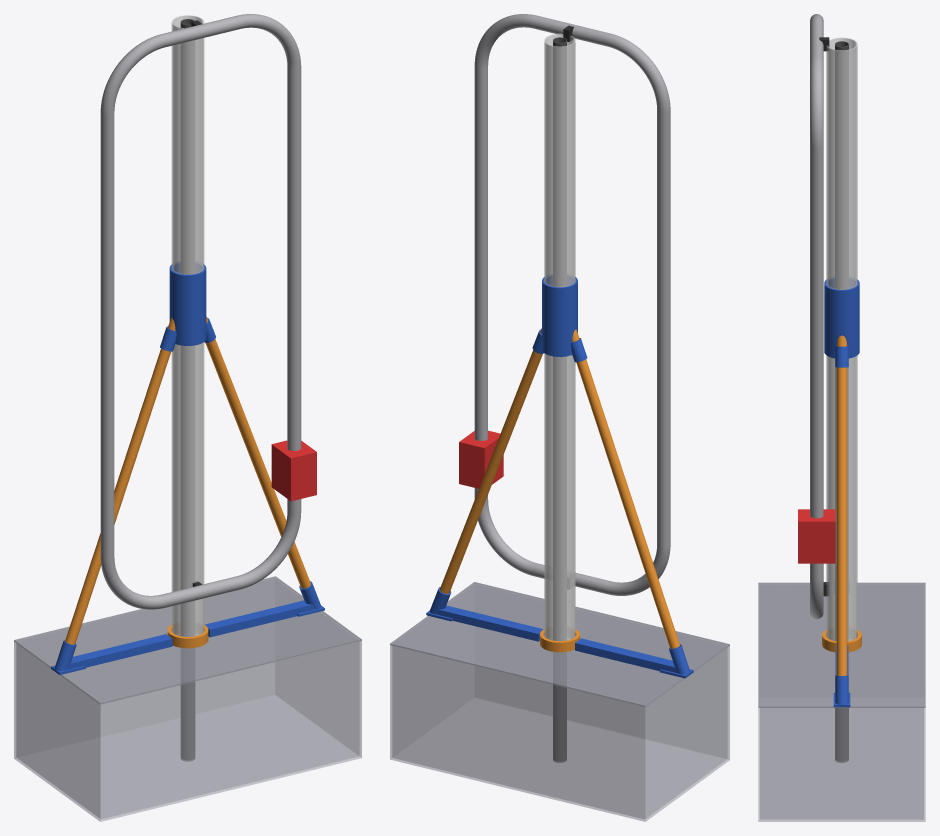
3 renders of one model, left to right at view 1: azimuth 30°, elevation 25°; view 2: azimuth 150°, elevation 25°; view 3: azimuth 270°, elevation 25°, orthographic. The views are drawn at different scales.
Parts seen in each view (by area): view 1: tank, track_loop, lid, pipe_lower, spine_tube, pipe_upper, aframe_legs, base_bar_and_lid_sleeves, aframe_coupling, cart; view 2: tank, track_loop, lid, pipe_lower, spine_tube, pipe_upper, aframe_legs, base_bar_and_lid_sleeves, aframe_coupling, cart; view 3: tank, lid, pipe_upper, track_loop, pipe_lower, spine_tube, aframe_legs, aframe_coupling, cart, base_bar_and_lid_sleeves, socket.
Boxes of the visible parts, x1,y1,x2,y2 form: tank: (14, 578, 361, 821); track_loop: (100, 14, 301, 609); lid: (14, 576, 361, 704); pipe_lower: (171, 342, 204, 636); spine_tube: (180, 19, 194, 761); pipe_upper: (171, 15, 204, 274); aframe_legs: (65, 316, 310, 644); base_bar_and_lid_sleeves: (51, 581, 324, 674); aframe_coupling: (160, 263, 215, 351); cart: (271, 440, 316, 501); tank: (390, 585, 729, 821); track_loop: (474, 14, 670, 595); lid: (390, 582, 729, 707); pipe_lower: (544, 353, 575, 641); spine_tube: (553, 37, 566, 762); pipe_upper: (544, 33, 575, 287); aframe_legs: (440, 328, 679, 648); base_bar_and_lid_sleeves: (426, 587, 693, 678); aframe_coupling: (532, 275, 587, 362); cart: (459, 430, 503, 488); tank: (758, 584, 925, 821); lid: (758, 582, 925, 707); pipe_upper: (826, 37, 857, 289); track_loop: (810, 14, 823, 619); pipe_lower: (826, 355, 857, 641); spine_tube: (835, 41, 848, 762); aframe_legs: (836, 335, 847, 675); aframe_coupling: (824, 278, 859, 367); cart: (798, 509, 835, 563); base_bar_and_lid_sleeves: (833, 645, 850, 707); socket: (822, 630, 861, 652).
Bounding box in the file's own units: 710 × 1900 × 400.
